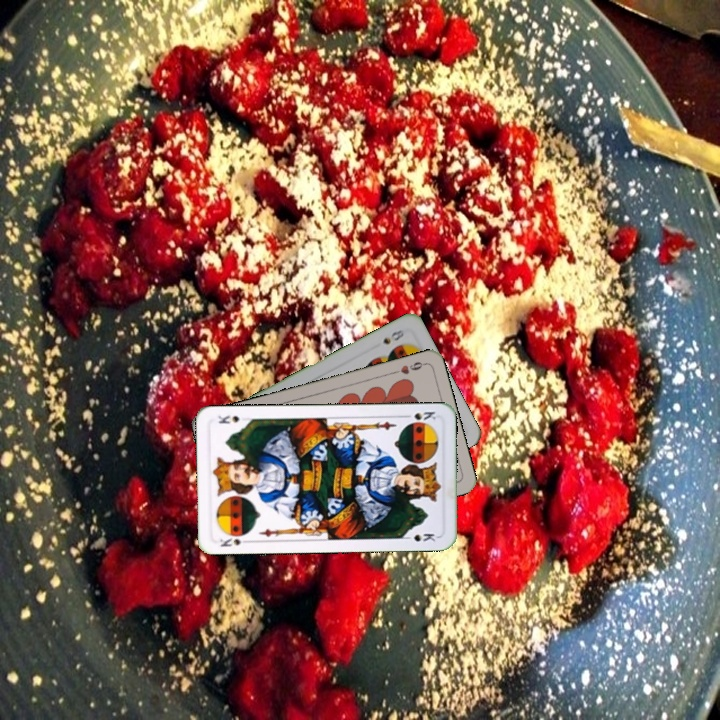H9: (388, 358, 428, 377)
S8: (378, 325, 406, 347)
SK: (399, 407, 438, 423), (216, 534, 253, 549)
